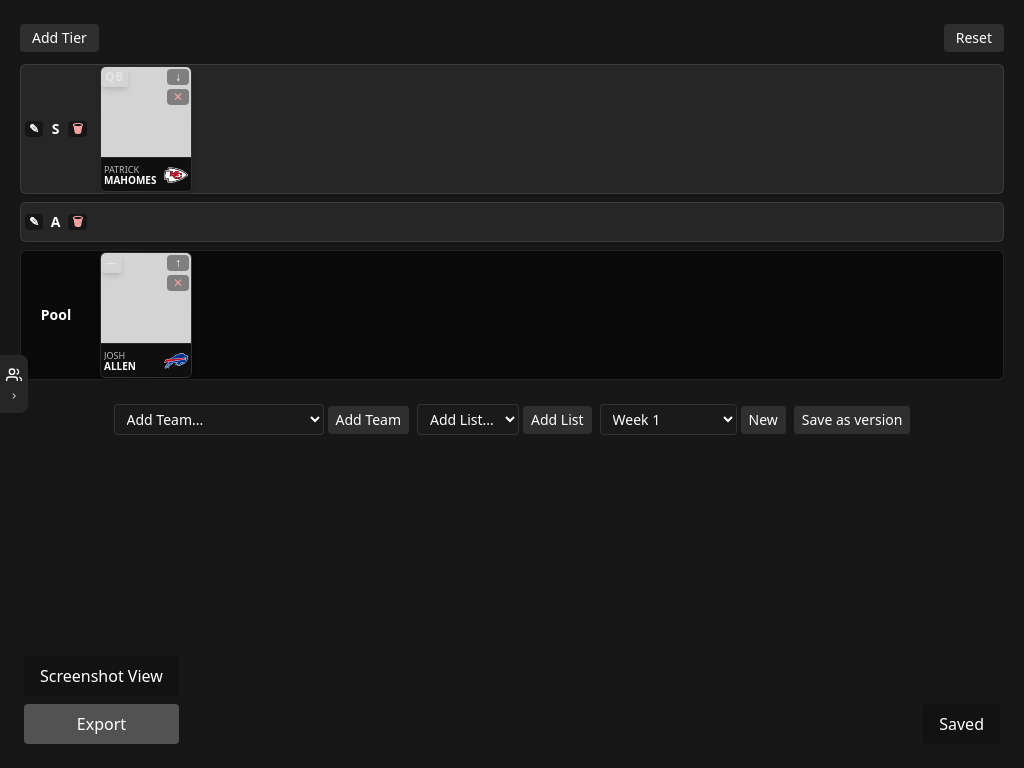
Test case: TierMakerBoard confirm dialog › asks in-app before clearing the board
Expected: the text "MAHOMES" is shown, [104,174,160,184]
Click the button "Reset": (974, 38) [944,24,1004,52]
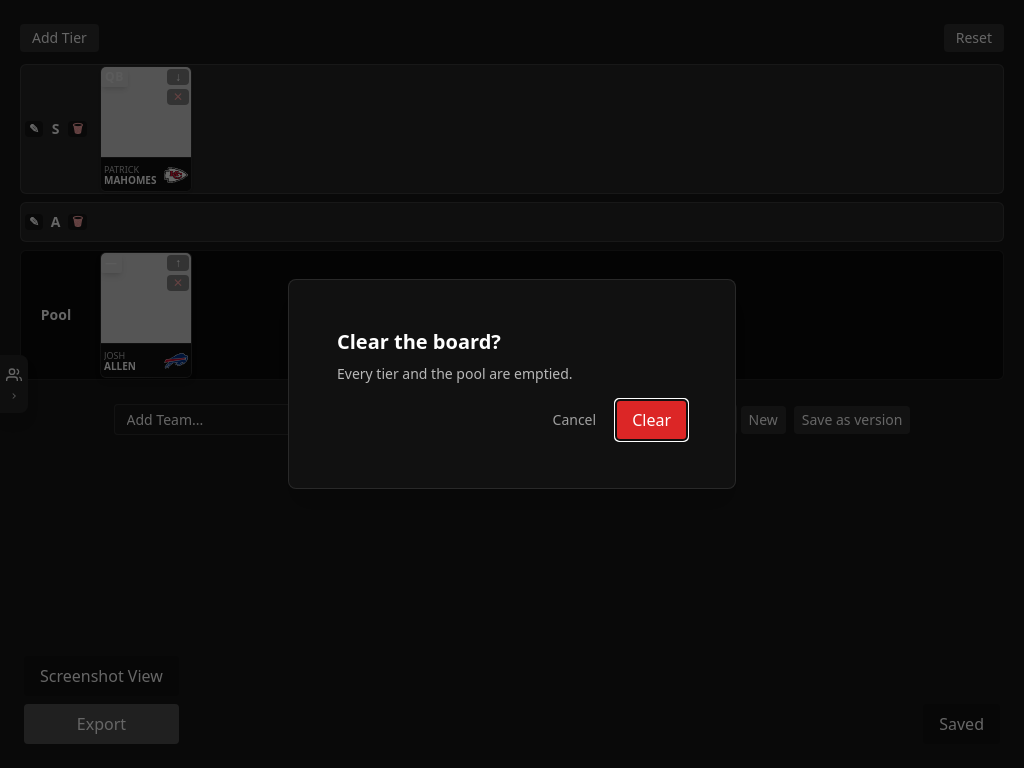
Click the button "Cancel": (574, 420) [540,400,608,440]
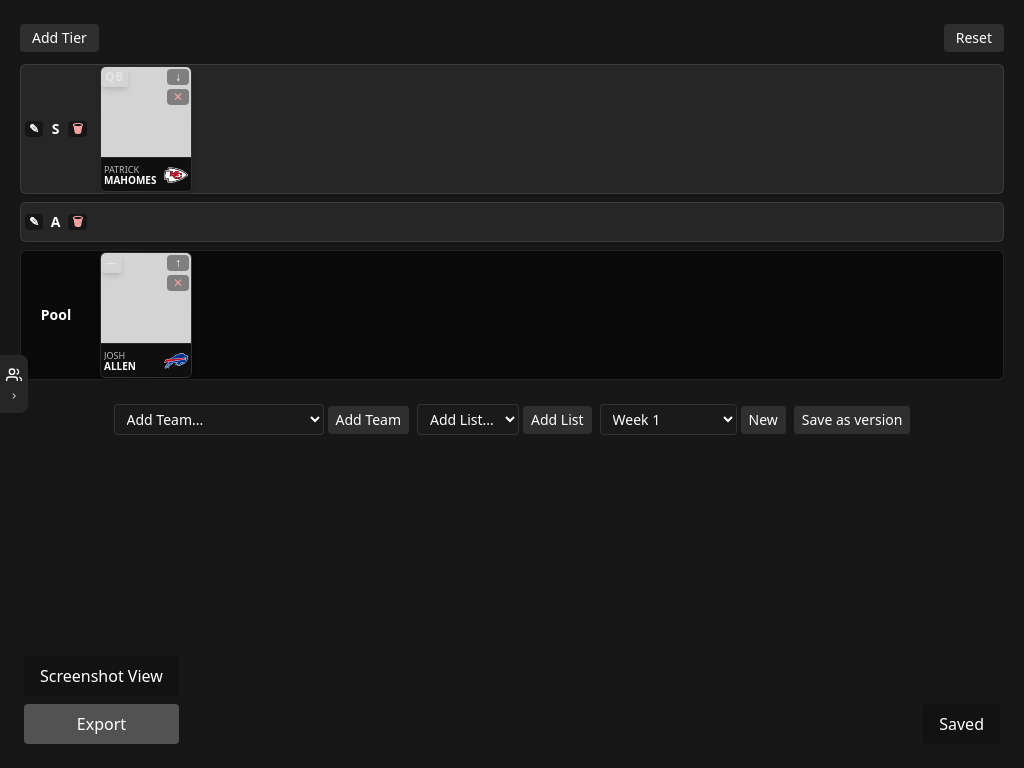
Expected: the text "MAHOMES" is shown, [104,174,160,184]
Result: the dialog is gone
Click the button "Reset": (974, 38) [944,24,1004,52]
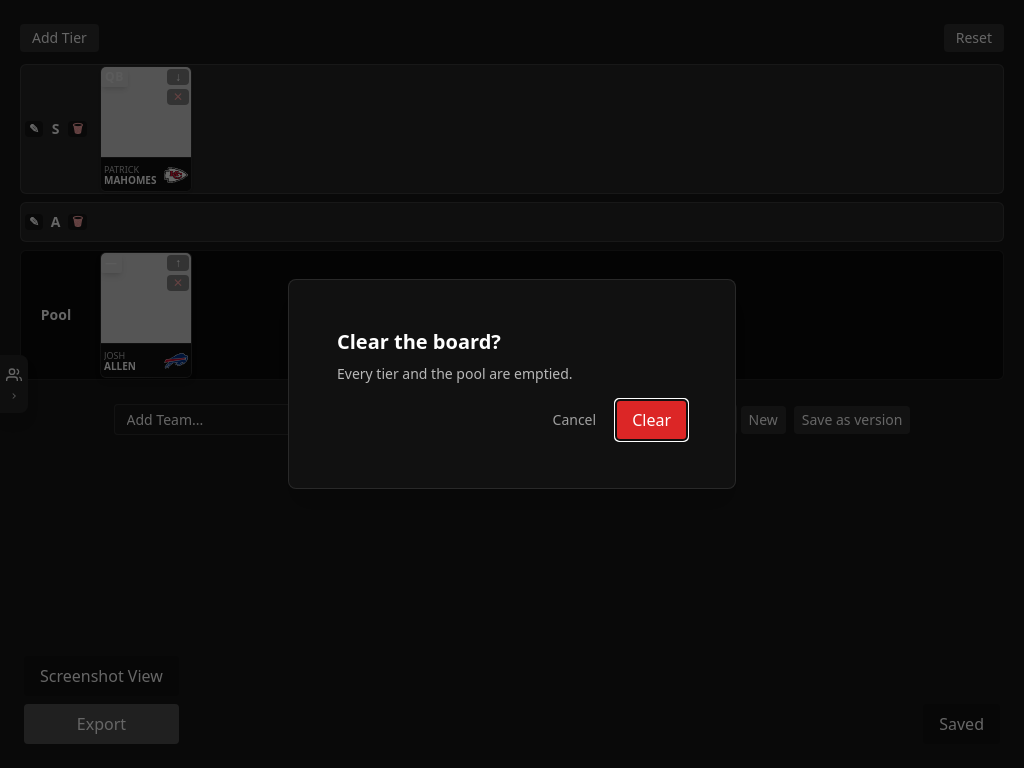
Click the button "Clear": (652, 420) [616,400,687,440]
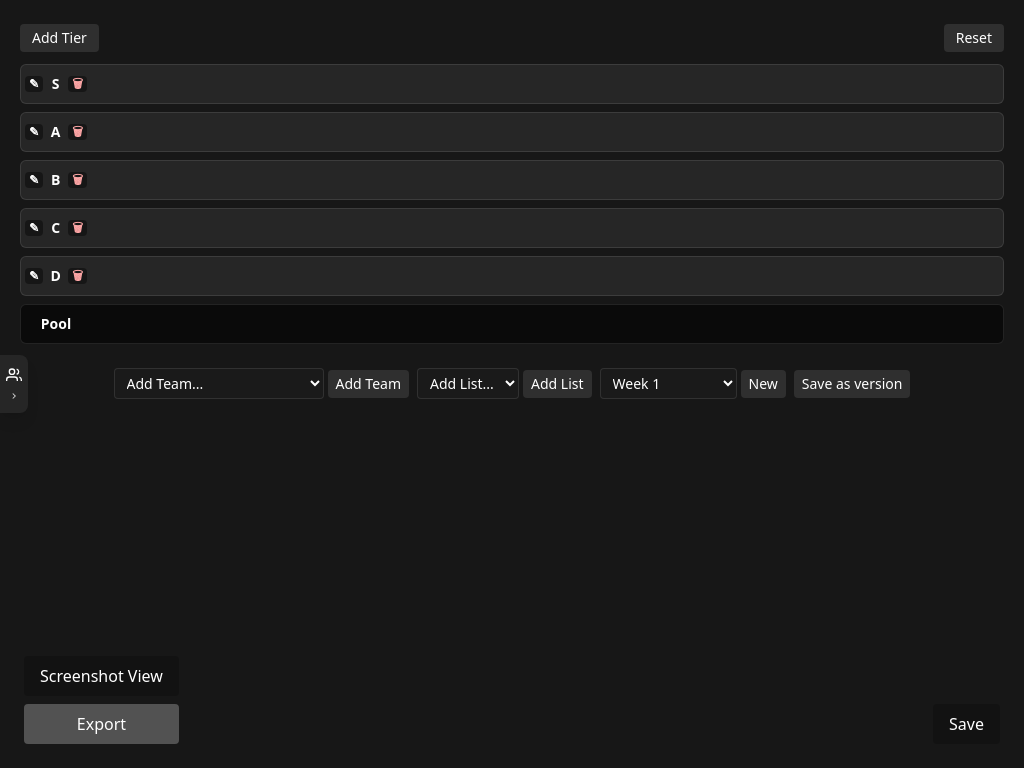
Expected: the text "MAHOMES" is not shown
Result: the dialog is gone
